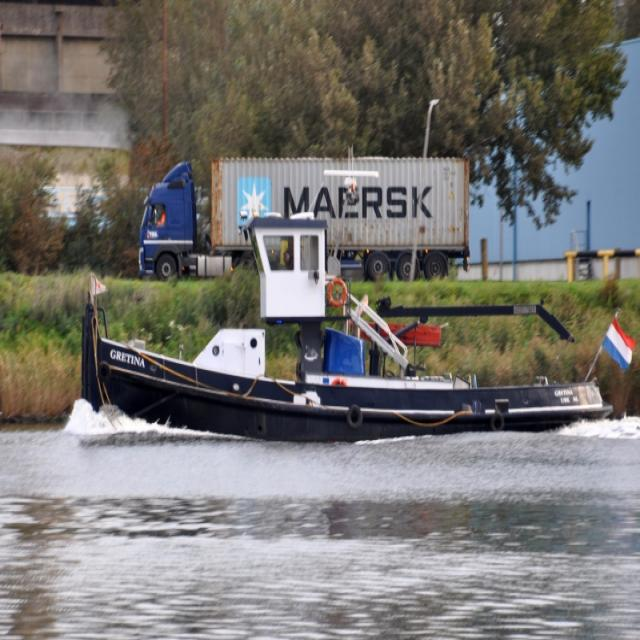tugboat: (76, 204, 618, 454)
